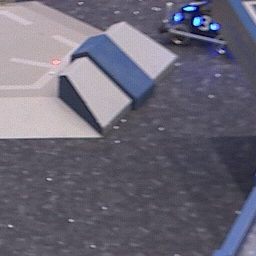Blue: (191, 13, 221, 34)
Robot: (157, 1, 234, 53)
